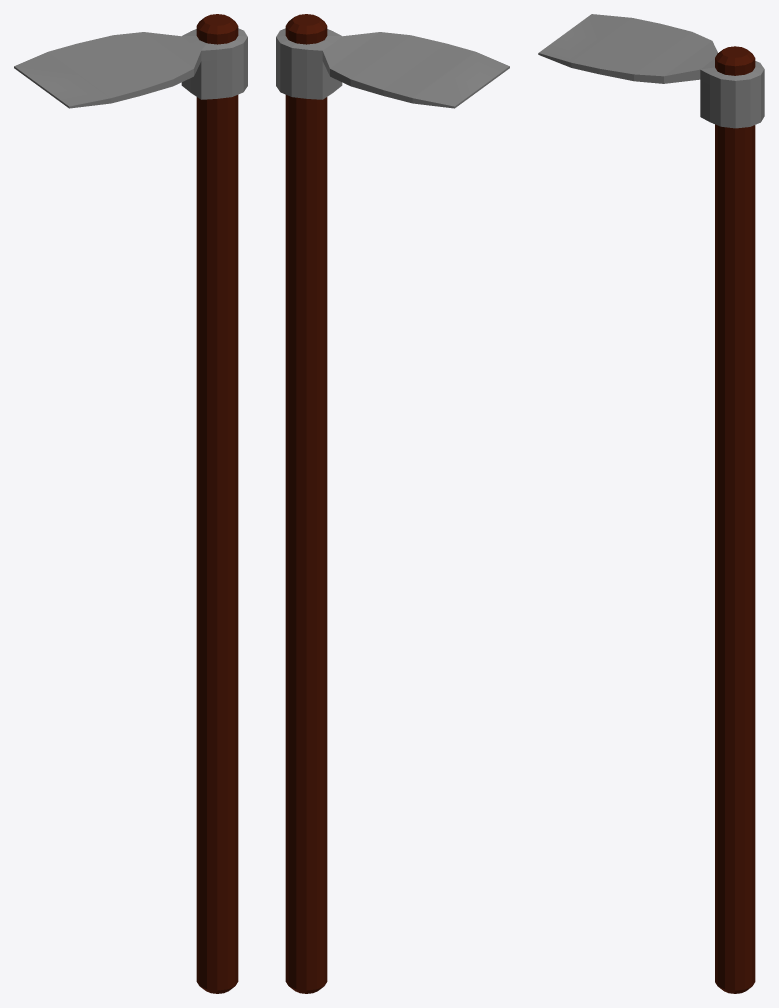
The model's file is Enxada - Comum.fbx.
The picture shows the model from 3 angles, left to right: view 1: azimuth 30°, elevation 25°; view 2: azimuth 150°, elevation 25°; view 3: azimuth 330°, elevation 25°; orthographic projection. The views are drawn at different scales.
Visible parts, largest first — view 1: EnxadaComum; view 2: EnxadaComum; view 3: EnxadaComum.
Part boxes in pixels (x1,y1,x2,y2): EnxadaComum: (14,14,247,993); EnxadaComum: (276,14,509,993); EnxadaComum: (538,14,764,993).
Bounding box in the file's own units: 34.85 × 159 × 18.94.
